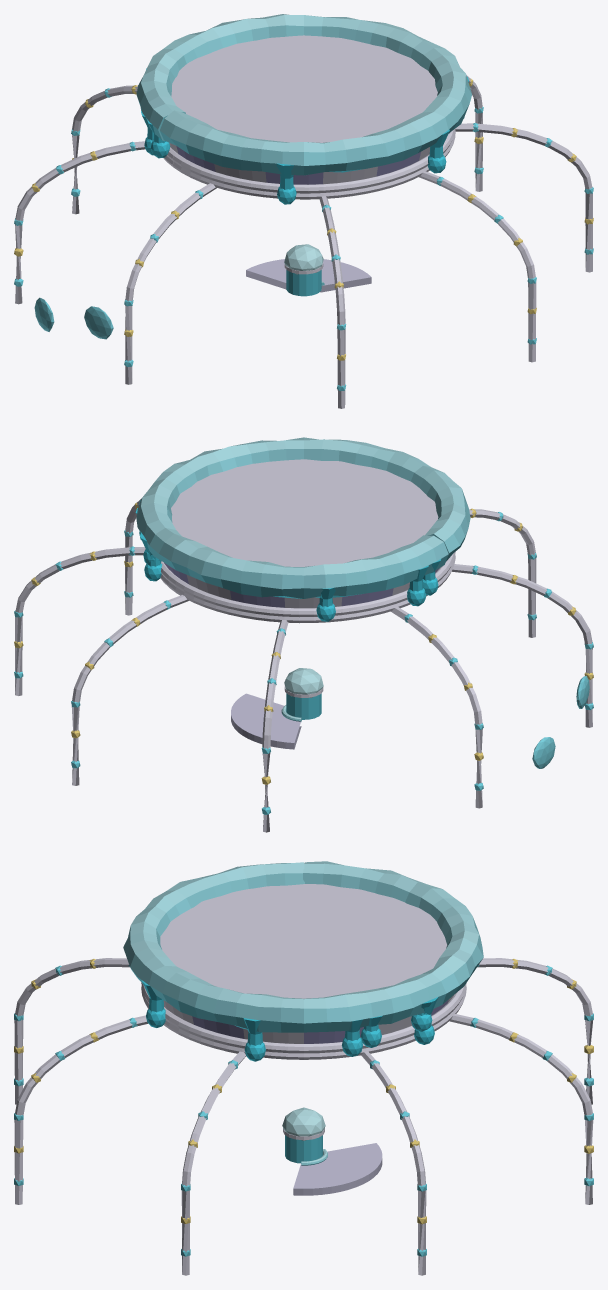
File: goo_jar_trim_3_top@space.fbx
3 views of the same model, one above another, from view 1: azimuth 30°, elevation 25°; view 2: azimuth 150°, elevation 25°; view 3: azimuth 270°, elevation 25° (orthographic). The views are drawn at different scales.
Visible parts, largest first — view 1: goo_jar_trim_3_top; view 2: goo_jar_trim_3_top; view 3: goo_jar_trim_3_top.
Boxes of the visible parts, x1=… form: goo_jar_trim_3_top: x1=14, y1=14, x2=593, y2=408; goo_jar_trim_3_top: x1=14, y1=437, x2=593, y2=832; goo_jar_trim_3_top: x1=14, y1=861, x2=593, y2=1275.
Bounding box in the file's own units: 47.37 × 20.21 × 45.44.
